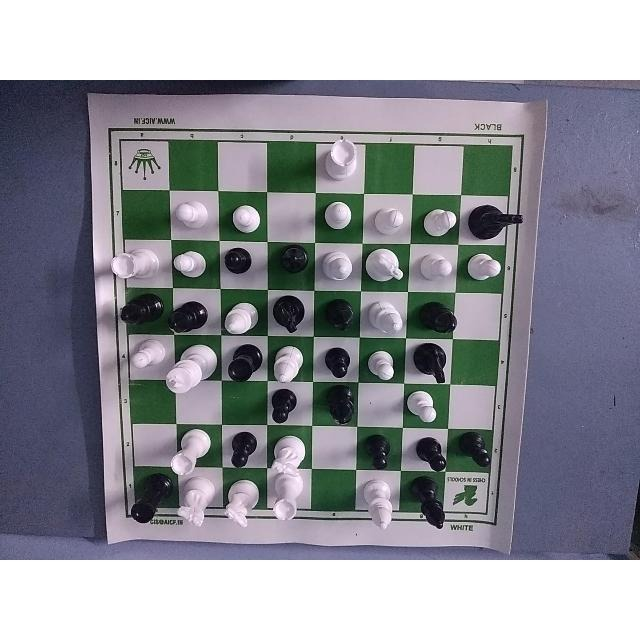black-bishop: (406, 475, 449, 533), (170, 290, 209, 340), (322, 384, 363, 426), (117, 294, 162, 330), (425, 296, 463, 338), (273, 242, 311, 283), (323, 295, 357, 333)
black-knight: (469, 198, 520, 244), (407, 338, 453, 385), (272, 290, 310, 337)
black-pawn: (220, 234, 256, 282), (459, 426, 495, 472), (411, 432, 450, 474), (322, 339, 358, 383), (227, 424, 259, 468), (365, 429, 395, 473), (270, 387, 304, 425)
black-rook: (127, 481, 170, 527), (230, 346, 262, 382)
white-bishop: (360, 484, 400, 528), (273, 342, 311, 386), (223, 294, 256, 336), (372, 297, 404, 339), (327, 242, 353, 286)
white-king: (170, 346, 214, 398)
white-knight: (220, 476, 257, 529), (272, 432, 314, 476), (178, 482, 214, 530), (365, 244, 407, 284)
white-pawn: (417, 194, 459, 237), (229, 191, 269, 233), (319, 192, 354, 237), (369, 192, 404, 237), (130, 335, 165, 375), (409, 387, 442, 426), (175, 193, 209, 229), (171, 243, 205, 279), (366, 343, 394, 386), (417, 243, 449, 280), (465, 251, 499, 283)
white-rook: (113, 243, 162, 283), (168, 428, 207, 476), (267, 481, 306, 525), (325, 137, 361, 181)
